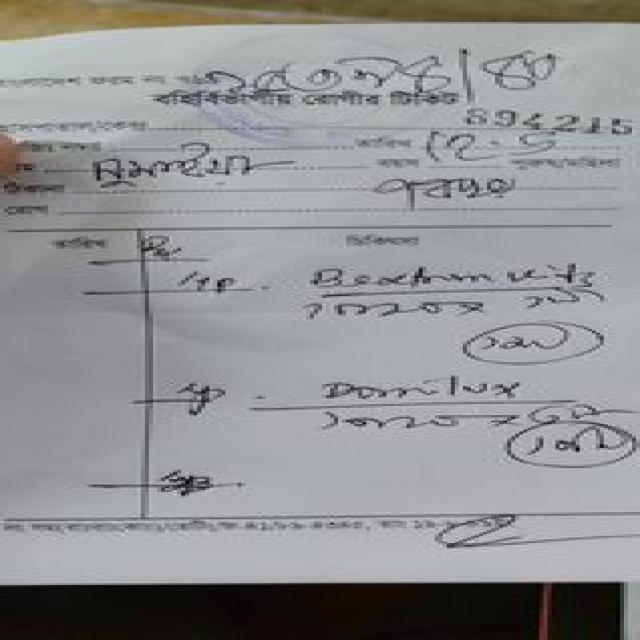Bextram Gold: (303, 261, 502, 291)
Domilux: (308, 371, 542, 403)
